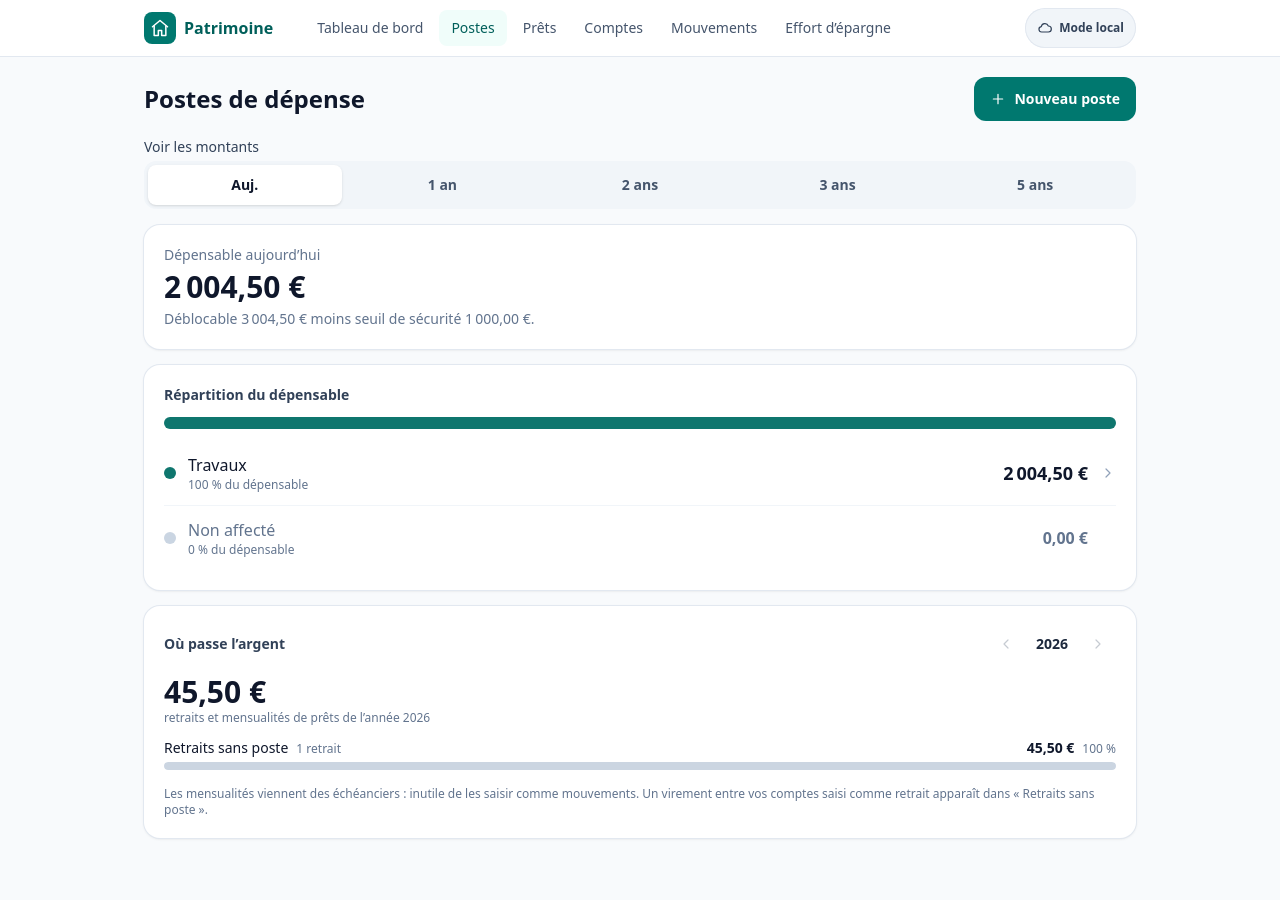
Test: Postes de dépense › désactive le curseur quand tout est réparti
This screenshot has width=1280, height=900.
Click the button "Nouveau poste" at (1055, 99), box [974,77,1136,121]
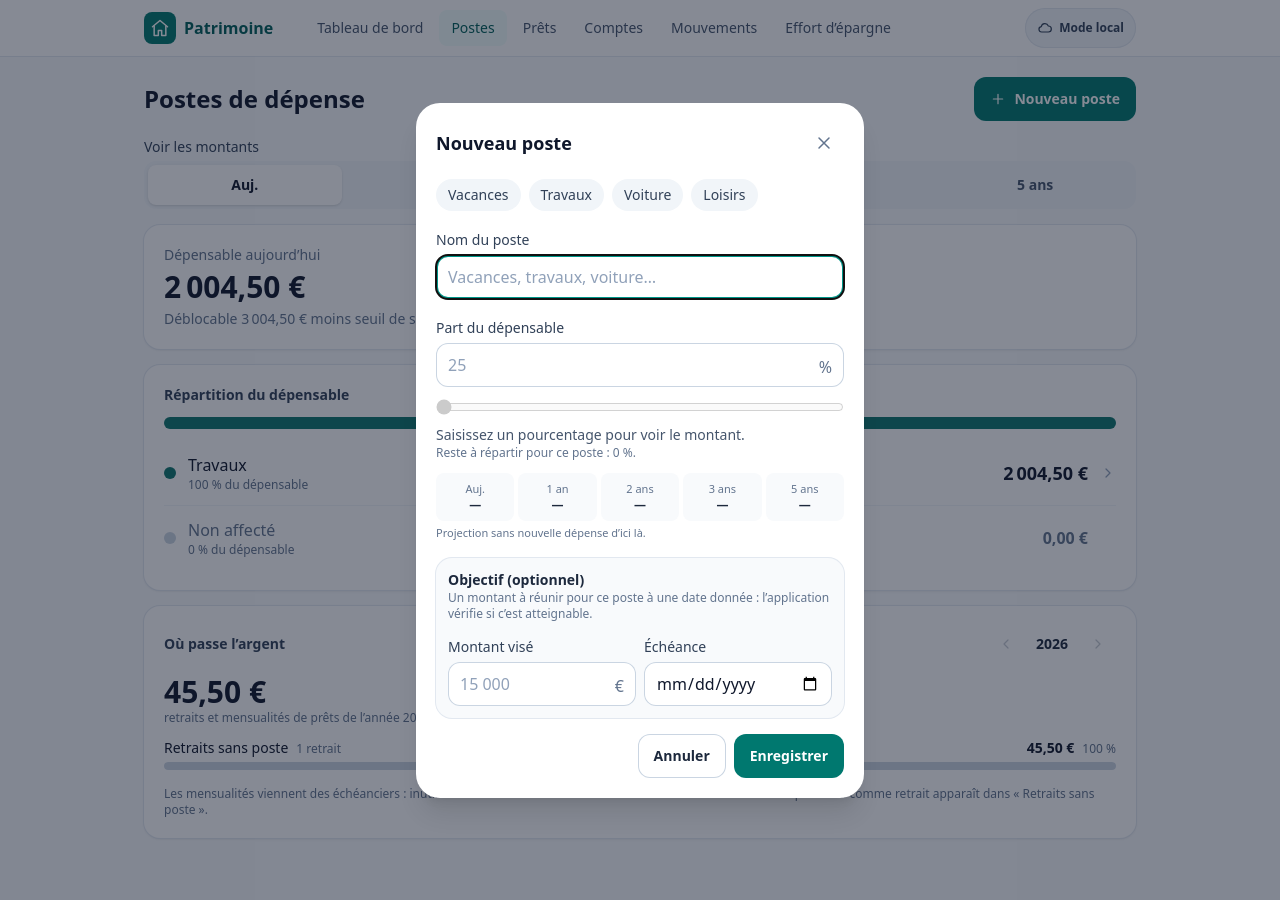
Expected: the slider is disabled, [436,398,844,414]
